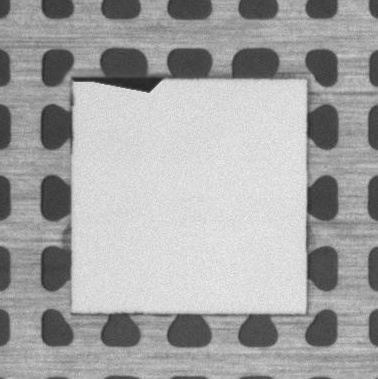DIE_BROKEN: (71, 71, 166, 93)
